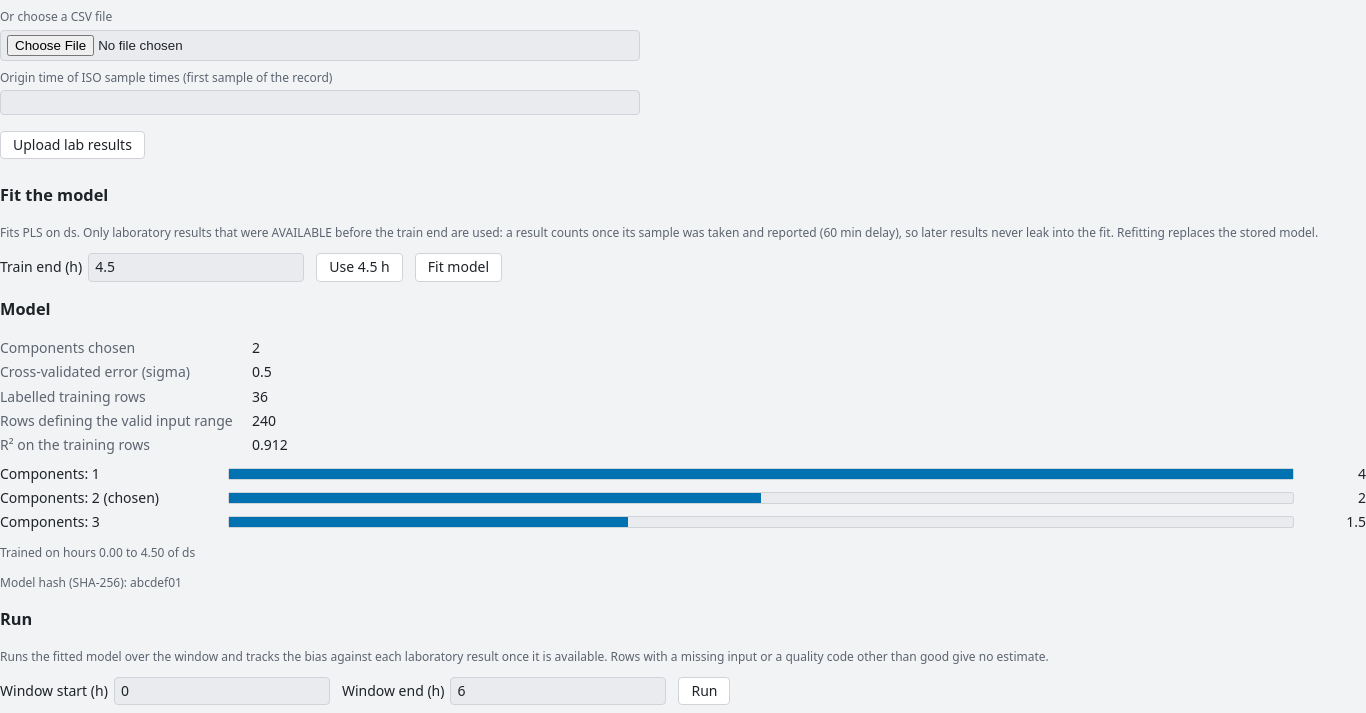
run on the page › shows validity counts, the flags rule, the scores and the drift episode
This screenshot has width=1366, height=713.
(page scrolled)
Click the button "Run": (704, 691) [678, 677, 730, 705]
(page scrolled)
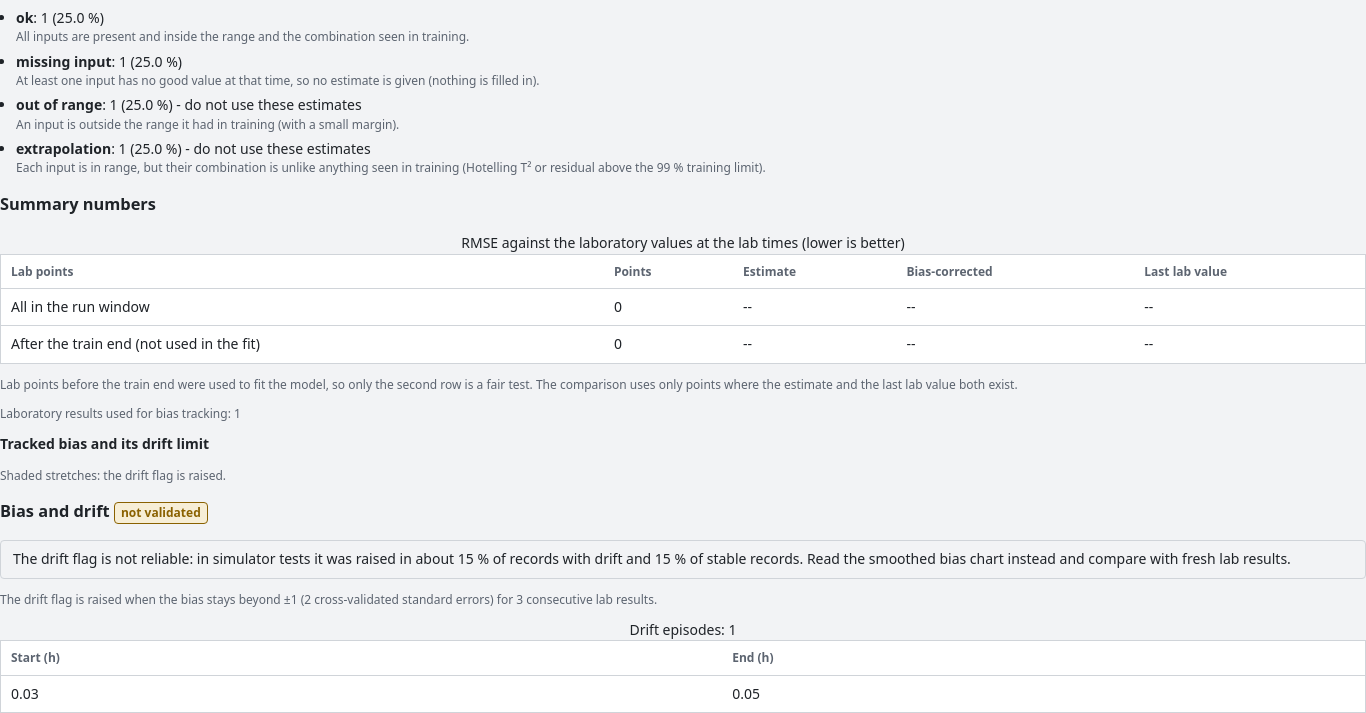
Expected: the list item with test id "validity-extrapolation" shows "extrapolation: 1", [16, 139, 766, 176]
Expected: the element with test id "soft-scores" shows "Laboratory results used for bias tracking: 1", [0, 405, 241, 422]
Expected: the element with test id "soft-drift" shows "beyond ±1", [0, 591, 657, 608]
